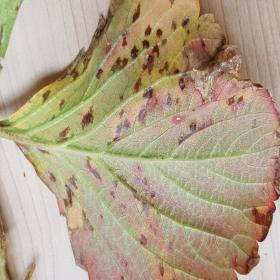Angular Leafspot: (0, 0, 279, 279)
